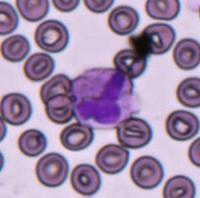E: (70, 67, 137, 129)
